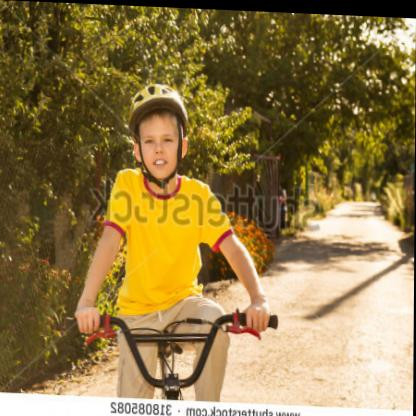With Helmet: (126, 72, 197, 189)
